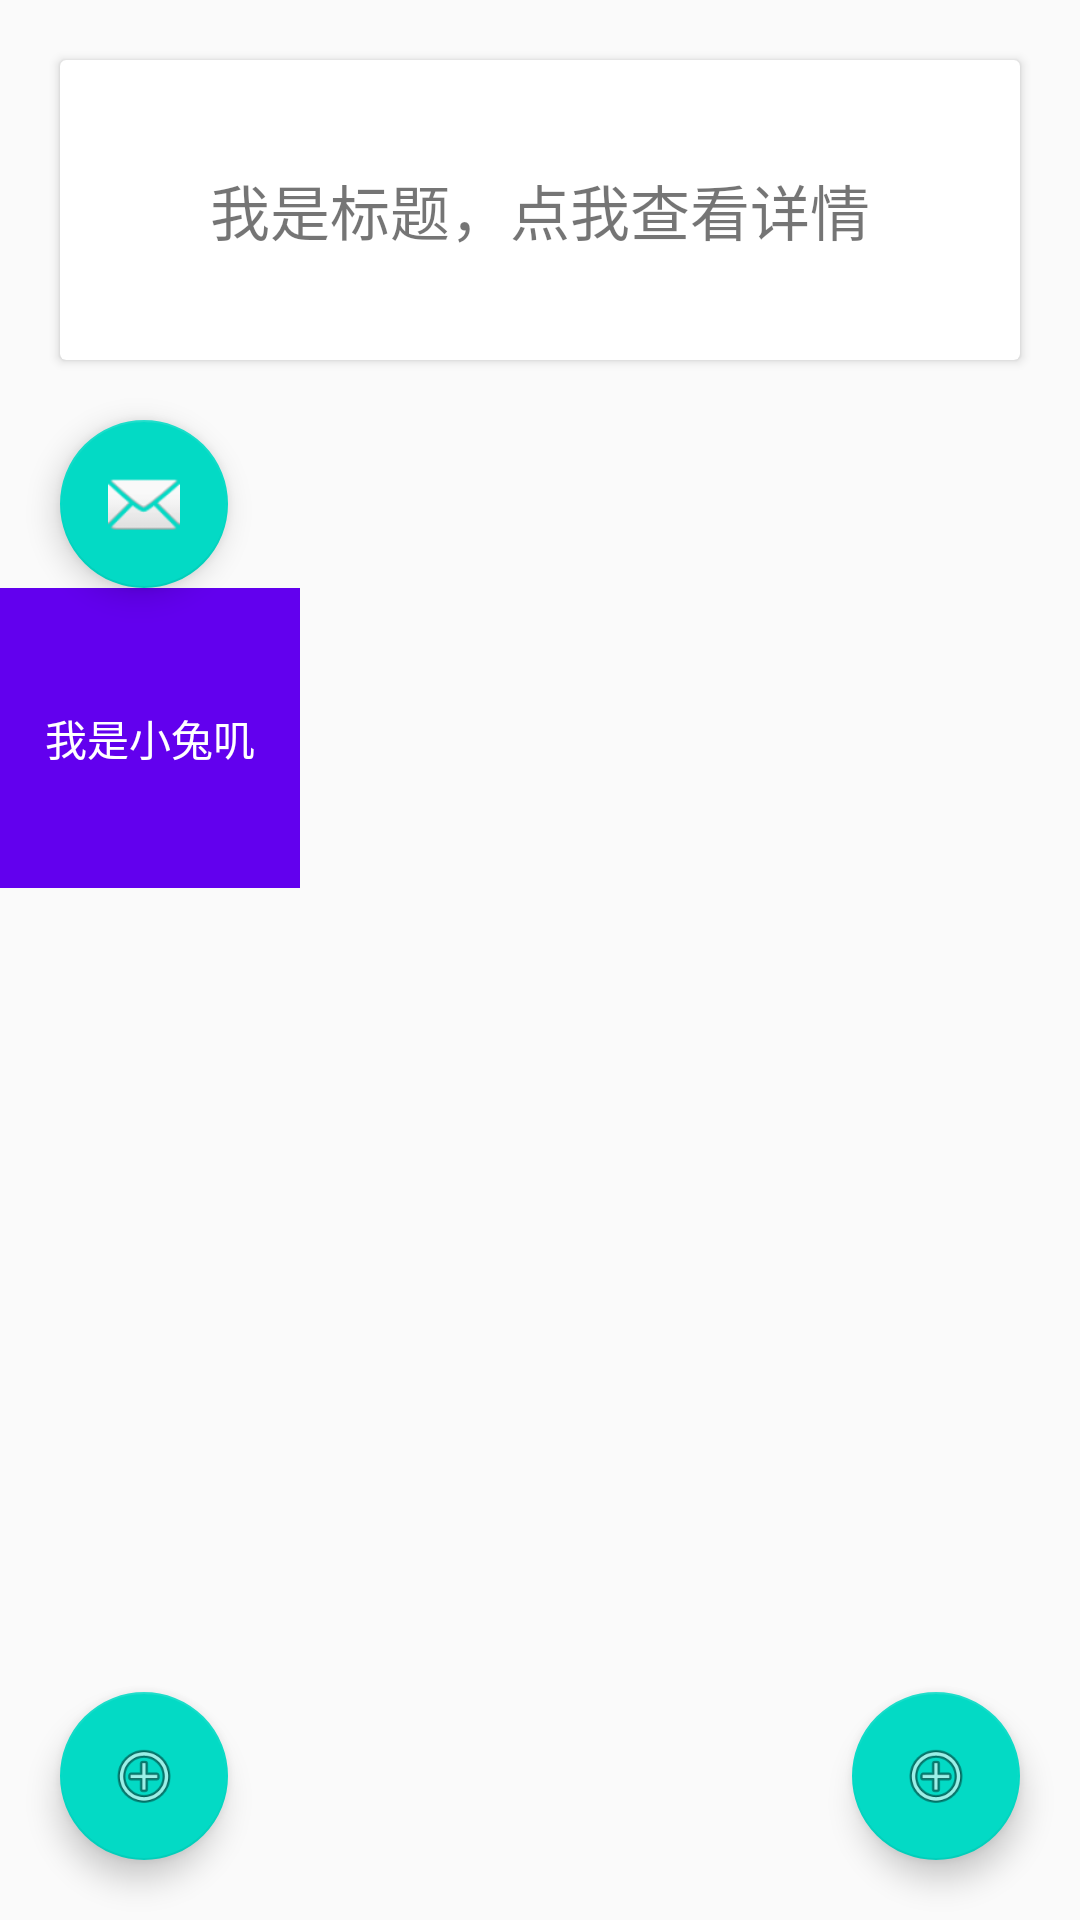

Point at icon controls on the screen. Image size 1080 × 1920, points as [x,y].
add: [144,1776], [936,1776]
email: [144,504]
